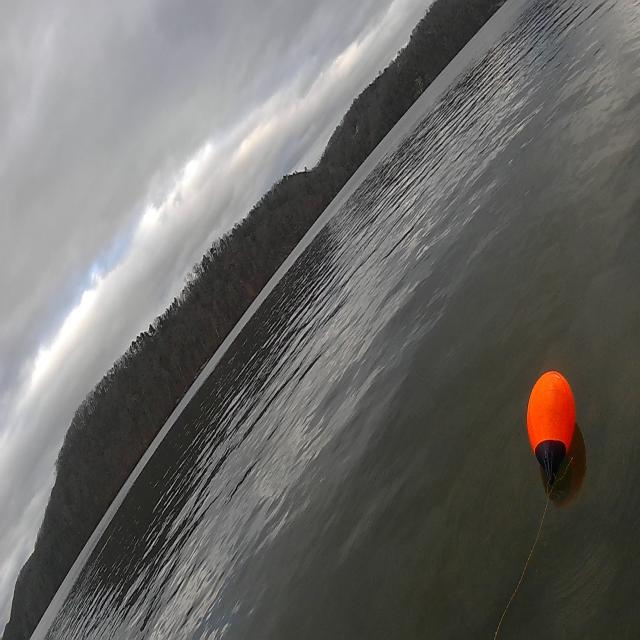Buoy: (524, 357, 580, 488)
